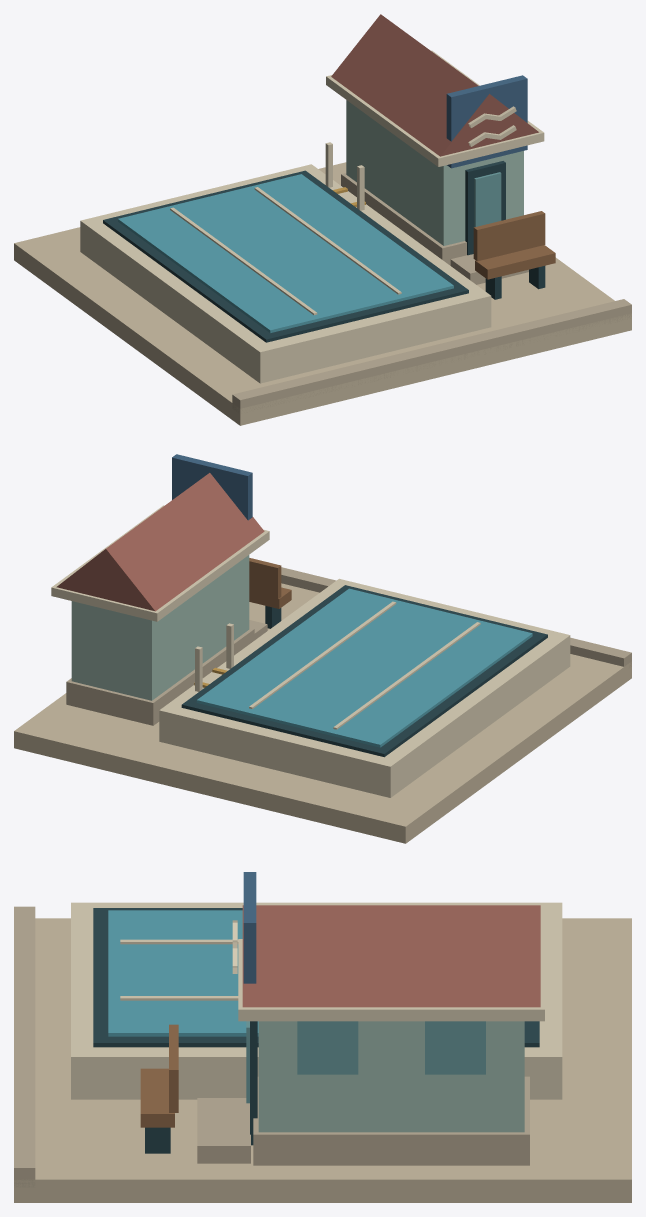
Rendered from swimming-pool-seabreeze-complete.glb.
3 renders of one model, top to bottom at view 1: azimuth 30°, elevation 25°; view 2: azimuth 150°, elevation 25°; view 3: azimuth 270°, elevation 25°, orthographic. The views are drawn at different scales.
Visible parts, largest first — view 1: swimming-pool; view 2: swimming-pool; view 3: swimming-pool.
Part boxes in pixels (x1,y1,x2,y2): swimming-pool: (14, 14, 631, 425); swimming-pool: (14, 454, 631, 843); swimming-pool: (14, 872, 631, 1202).
Size of the model in its own units: 2.88 by 1.37 by 2.88.
